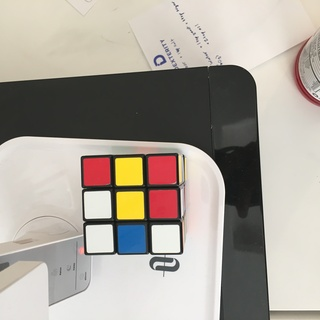face: (80, 154, 182, 255)
